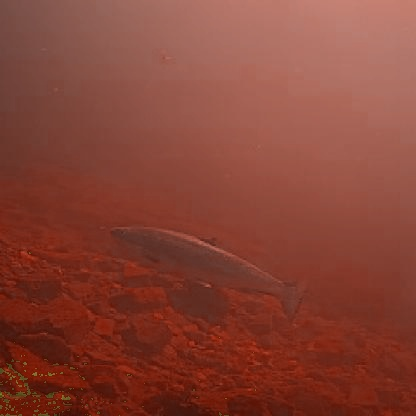salmon: (106, 217, 315, 324)
